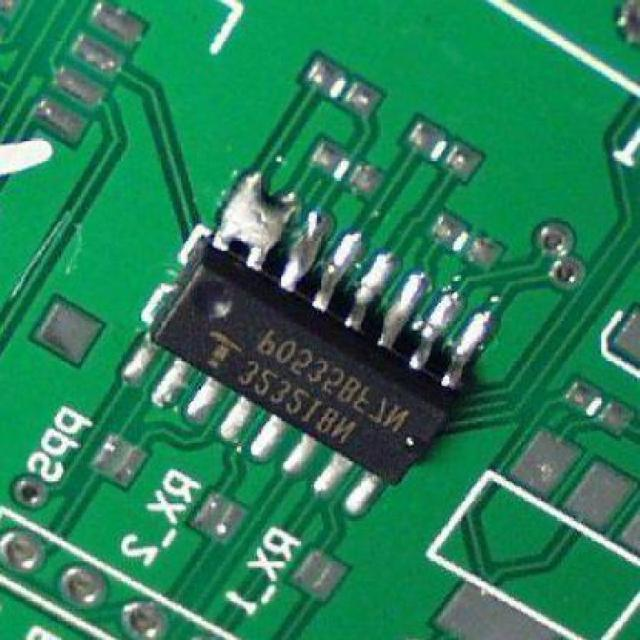Soldering shorted: (209, 173, 297, 264)
